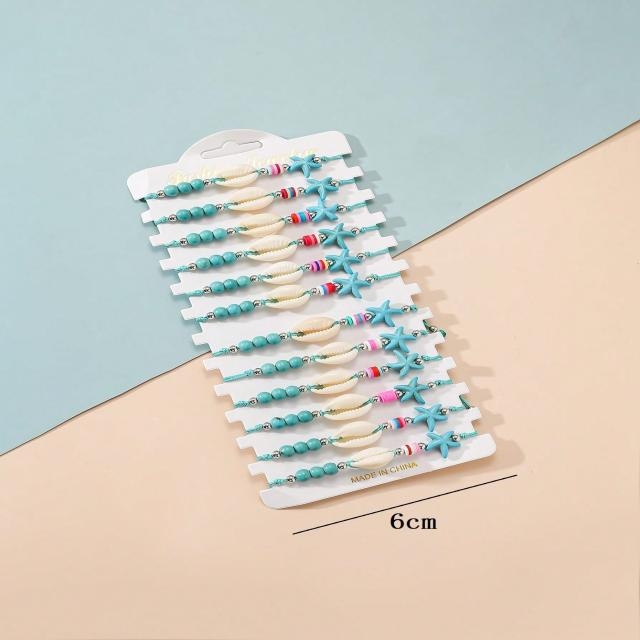bracelet: (41, 80, 546, 524)
